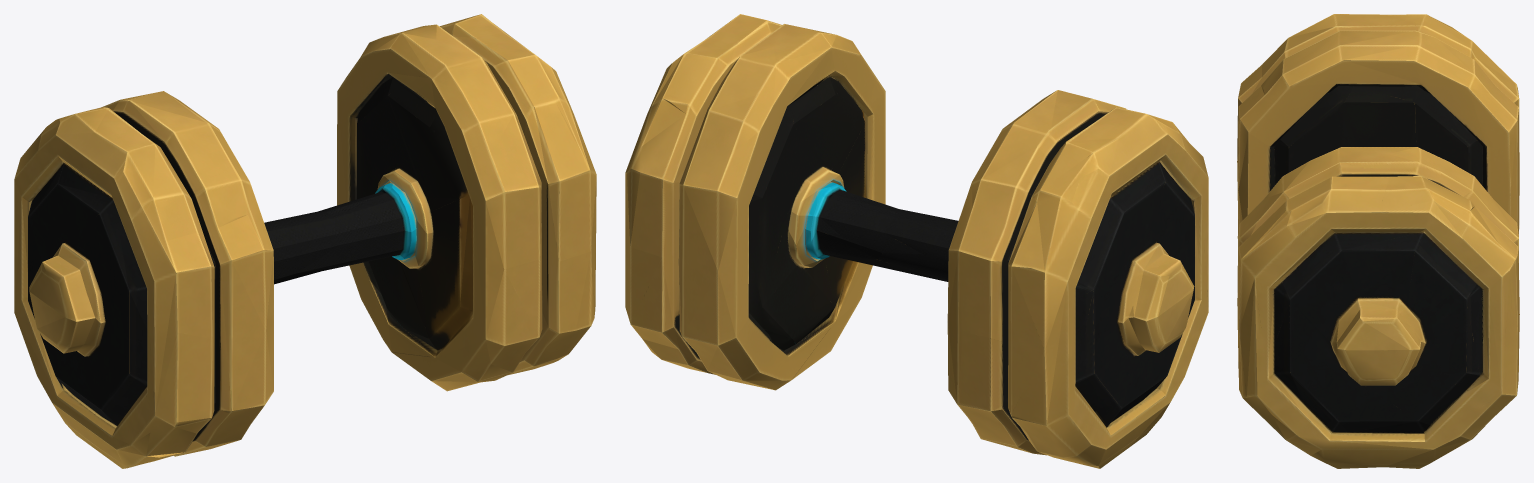
Rendered from source.glb.
3 views of the same model, side by side, from view 1: azimuth 30°, elevation 25°; view 2: azimuth 150°, elevation 25°; view 3: azimuth 270°, elevation 25° (orthographic). The views are drawn at different scales.
Size of the model in its own units: 1.9 by 1.15 by 1.02.
1 material, 1 textured.
